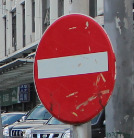no_entry: (33, 13, 116, 127)
